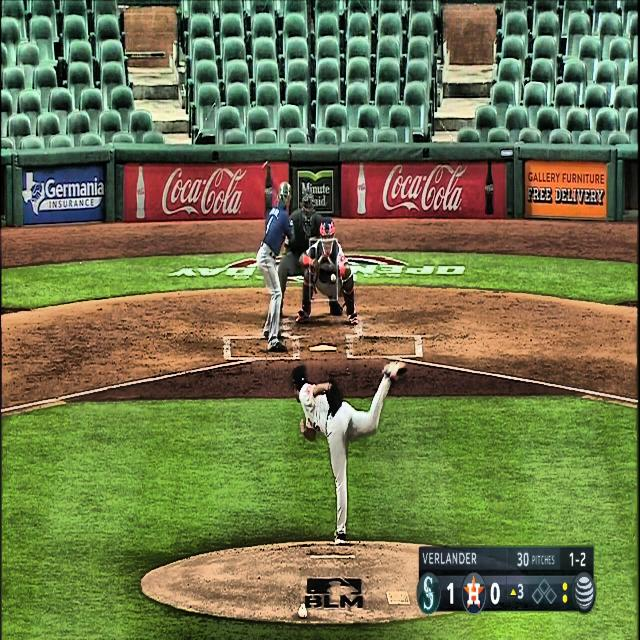baseball: (331, 274, 336, 282)
